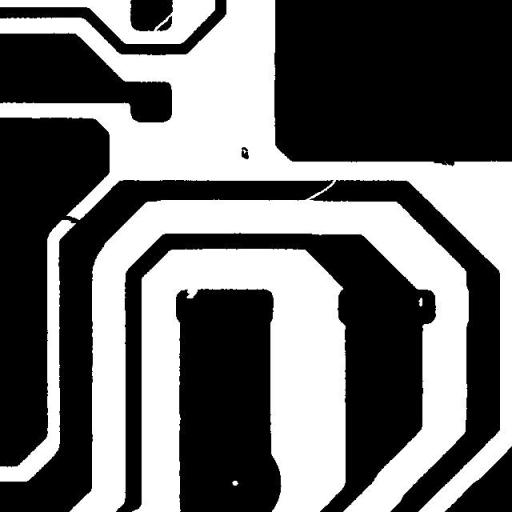copper: (234, 140, 256, 166)
mousebite: (178, 279, 205, 306)
open: (296, 171, 343, 210), (139, 4, 182, 45)
pin-hole: (410, 290, 430, 314)
short: (50, 208, 88, 231)
spur: (426, 150, 462, 174)
